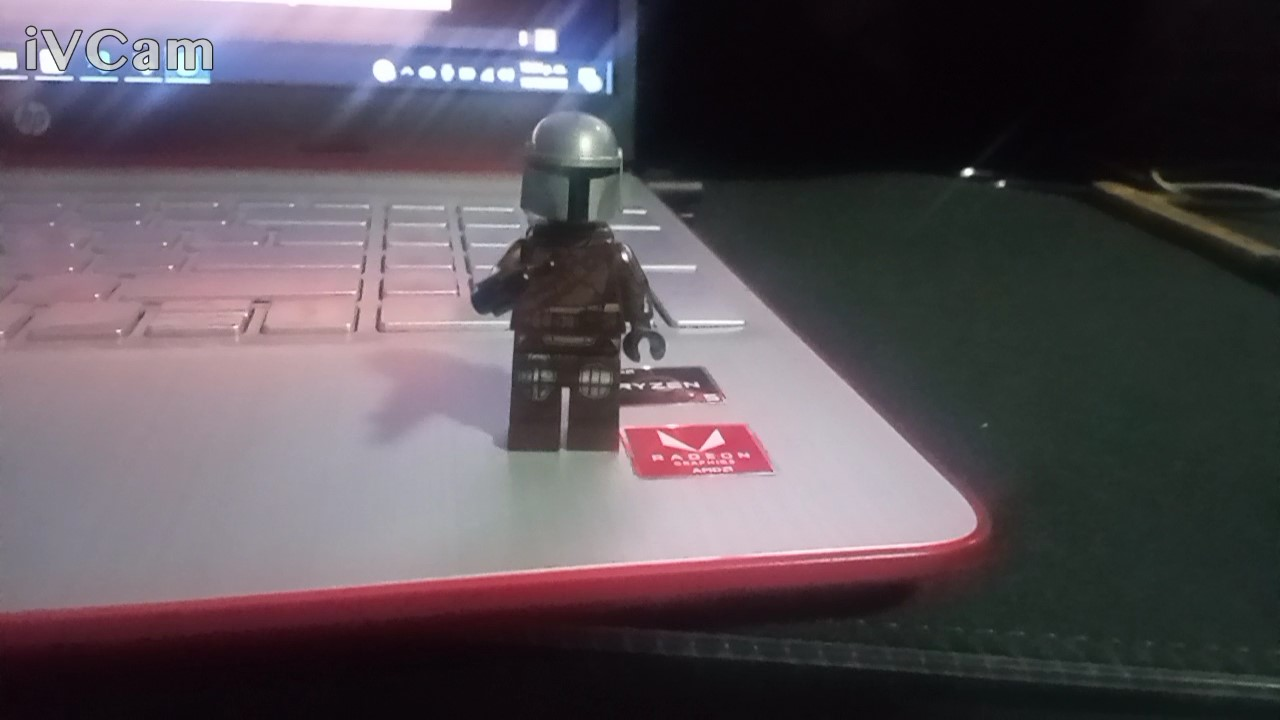mandalorian: (466, 93, 700, 459)
